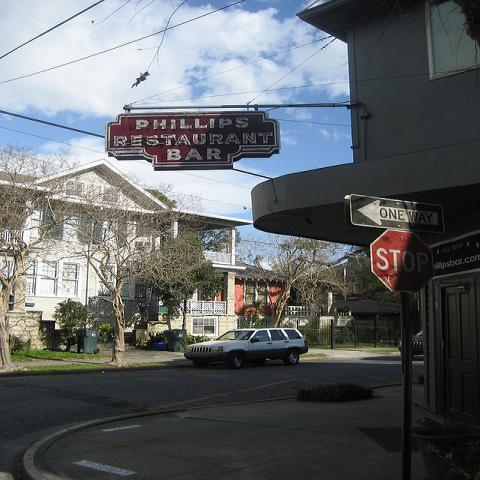car: (183, 328, 308, 369), (398, 330, 423, 356)
